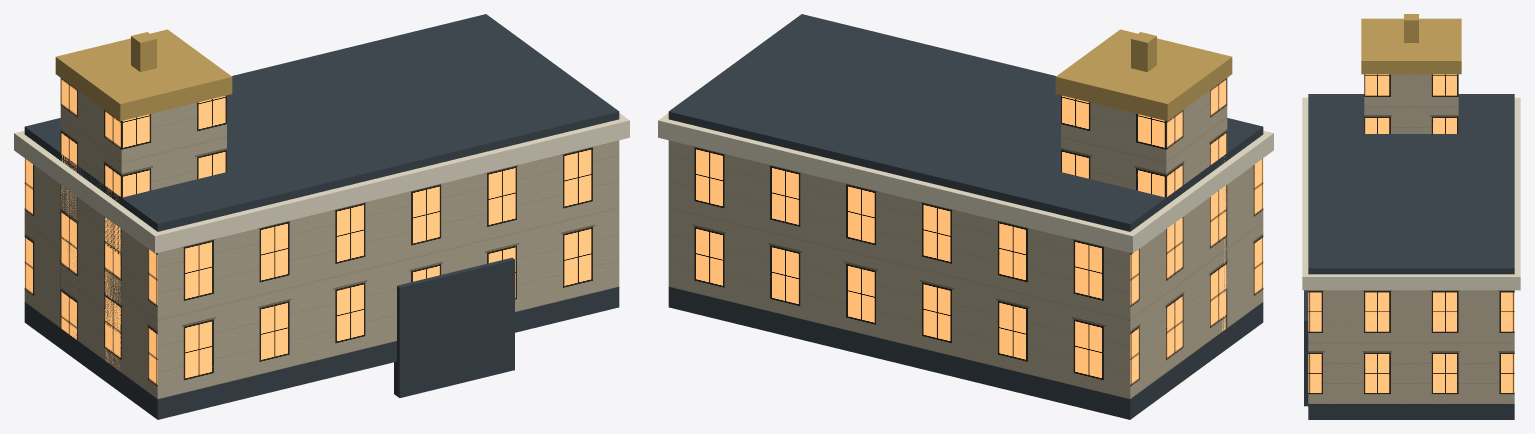
File: station.glb
3 views of the same model, side by side, from view 1: azimuth 30°, elevation 25°; view 2: azimuth 150°, elevation 25°; view 3: azimuth 270°, elevation 25° (orthographic). The views are drawn at different scales.
Visible parts, largest first — view 1: station; view 2: station; view 3: station.
Boxes of the visible parts, <box> form: station: <box>14,14,629,419</box>; station: <box>658,14,1273,419</box>; station: <box>1302,14,1520,419</box>.
Size of the model in its own units: 14.4 by 10.3 by 7.4.
Materials: 4 (1 with a texture image).
